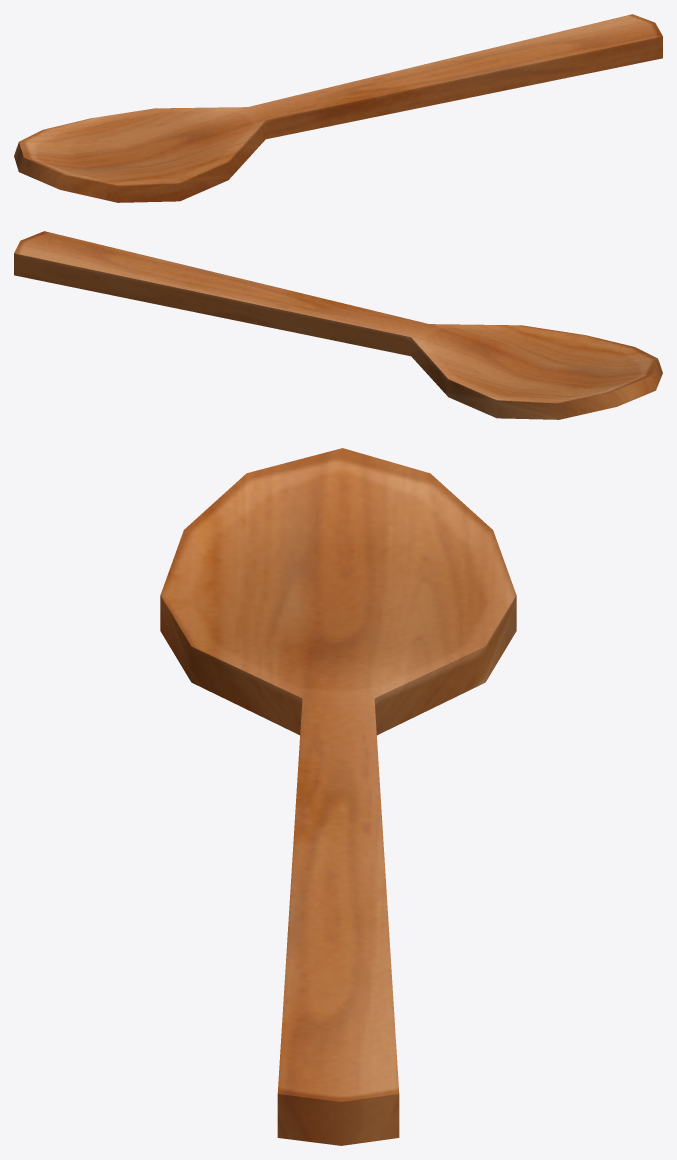
Rendered from Wooden_Spoon.fbx.
3 views of the same model, one above another, from view 1: azimuth 30°, elevation 25°; view 2: azimuth 150°, elevation 25°; view 3: azimuth 270°, elevation 25° (orthographic). The views are drawn at different scales.
Parts seen in each view (by area): view 1: Wooden_Spoon_01; view 2: Wooden_Spoon_01; view 3: Wooden_Spoon_01.
Boxes of the visible parts, bbox=[...] form: Wooden_Spoon_01: bbox=[14, 14, 662, 202]; Wooden_Spoon_01: bbox=[14, 231, 662, 419]; Wooden_Spoon_01: bbox=[160, 448, 516, 1145].
Bounding box in the file's own units: 100 × 7.04 × 24.3.
